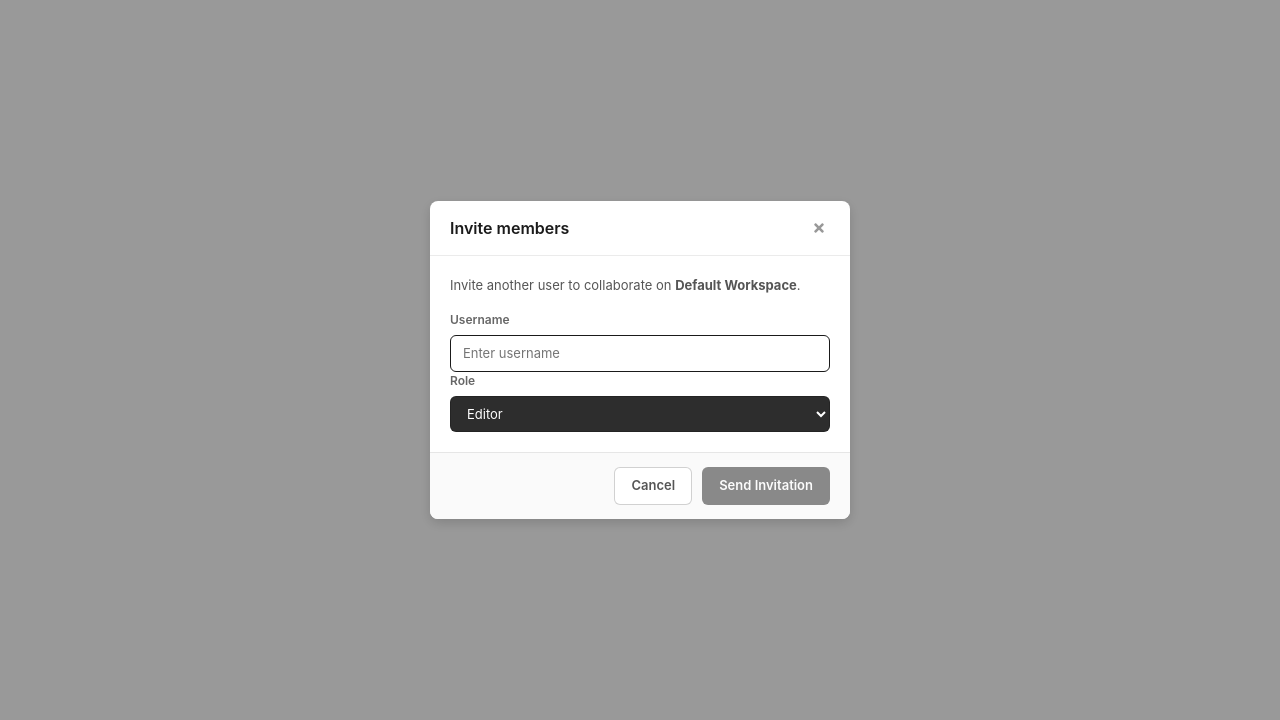
Test case: InviteModal Component Smoke Test › shows error feedback on failure
The width and height of the screenshot is (1280, 720).
Type "nonexistent" into the field with placeholder "Enter username". click: (640, 353)
box: x1=450 y1=335 x2=830 y2=372
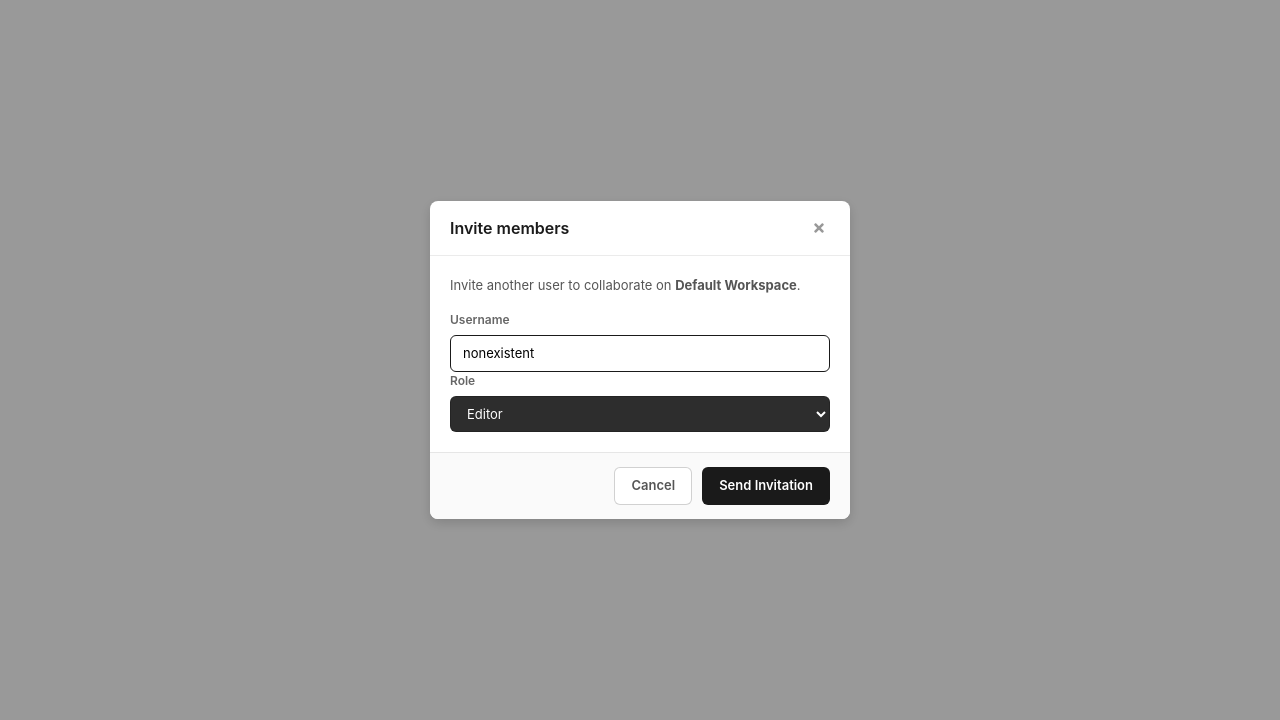
Click the button "Send Invitation". click: (766, 486)
box: x1=702 y1=467 x2=830 y2=505
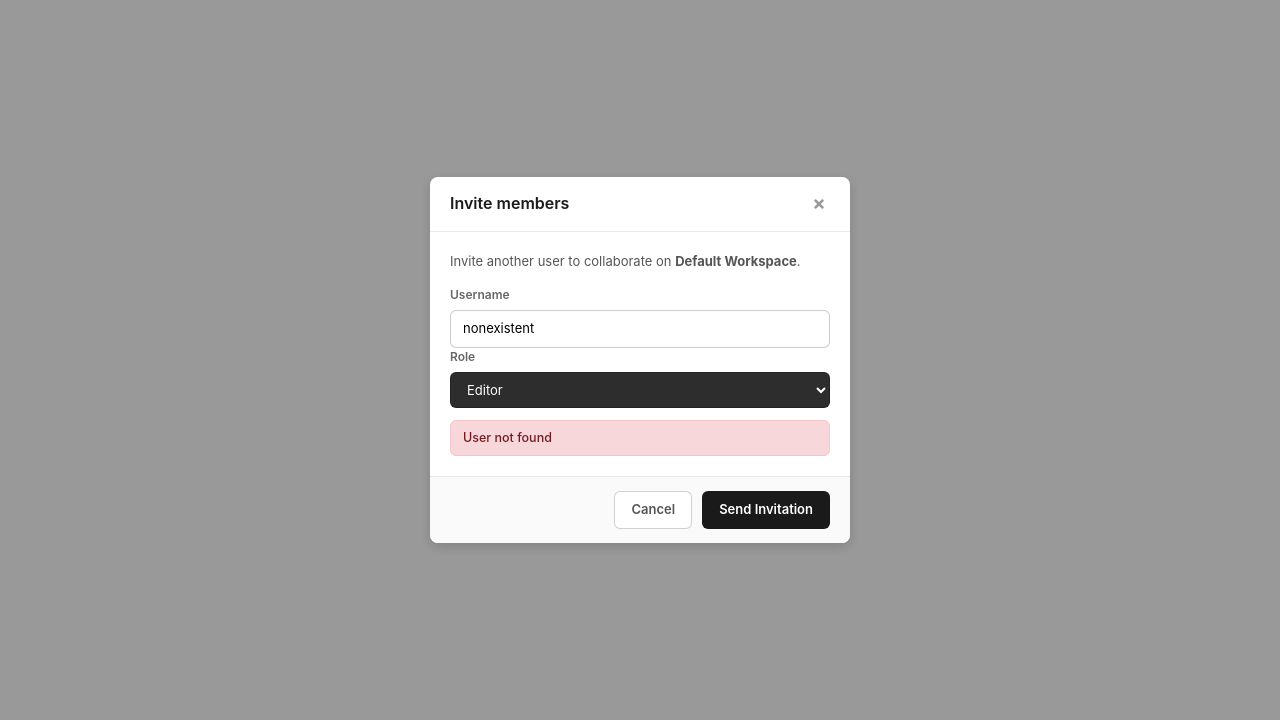
Expected: the text "User not found" is shown, x1=450 y1=420 x2=830 y2=456
